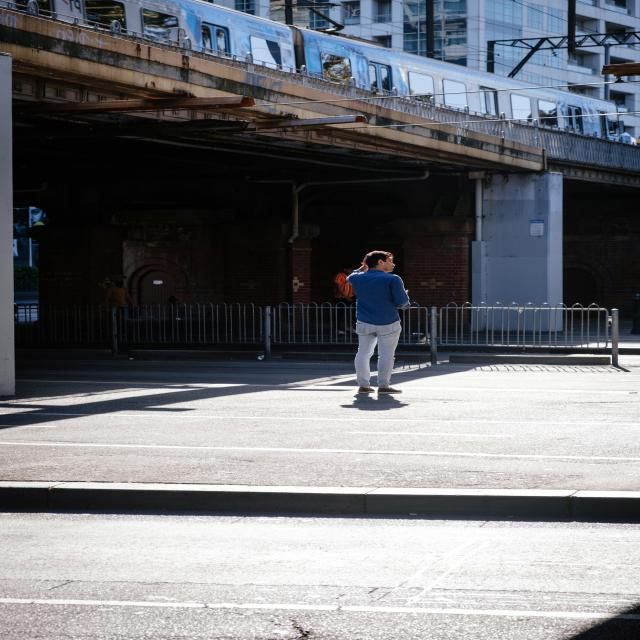adult: (340, 246, 417, 396)
